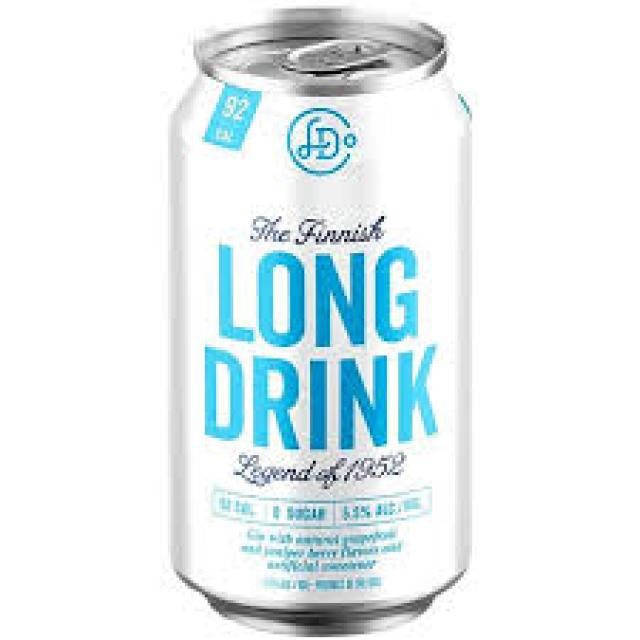Cans: (153, 9, 480, 628)
